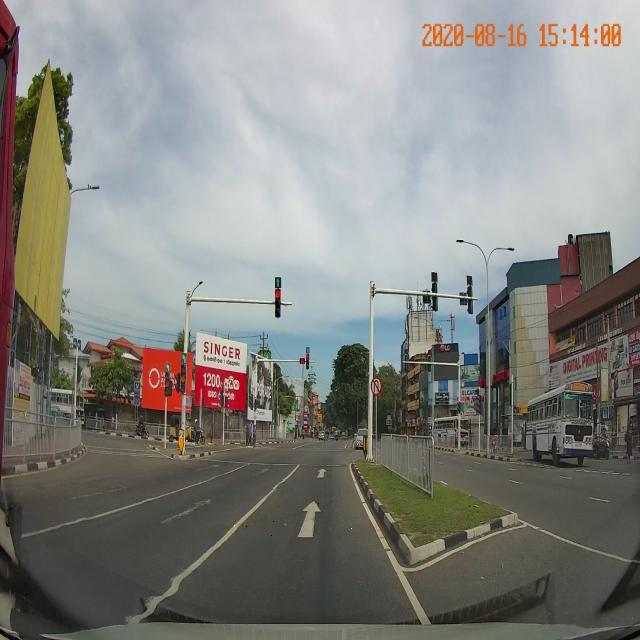forward: (226, 496, 378, 540)
